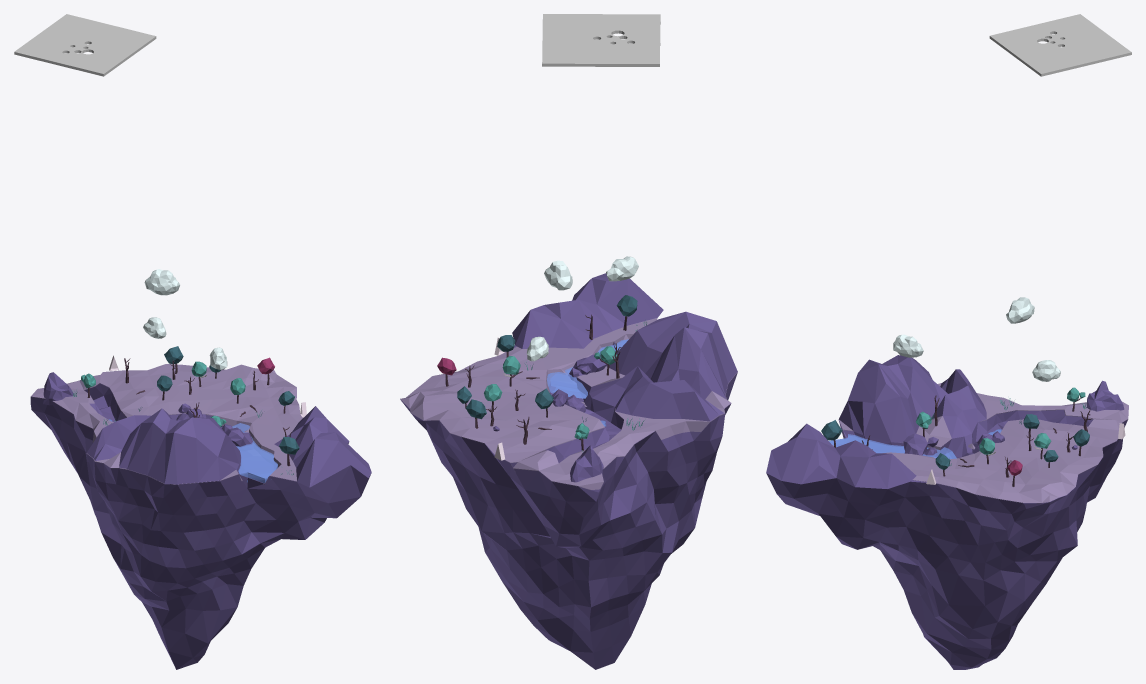
File: level-1-platform-1.dae
3 renders of one model, left to right at view 1: azimuth 30°, elevation 25°; view 2: azimuth 150°, elevation 25°; view 3: azimuth 270°, elevation 25°, orthographic. The views are drawn at different scales.
Visible parts, largest first — view 1: Plateforme, Plateforme_dessus, Cube, Eau_riviere, Eau_riviere_1, Cloud, Rocher_2; view 2: Plateforme, Plateforme_dessus, Cube, Rocher_2, Cloud, Cloud_3, Eau_riviere, hiding_item; view 3: Plateforme, Plateforme_dessus, Cube, Eau_riviere, Rocher_2, Cloud, Cloud_3.
Part boxes in pixels (x1,y1,x2,y2): Plateforme: (30,383,371,669); Plateforme_dessus: (30,364,302,484); Cube: (14,14,156,76); Eau_riviere: (232,423,277,482); Eau_riviere_1: (237,443,277,483); Cloud: (144,269,179,295); Rocher_2: (43,372,73,405); Plateforme: (400,273,737,669); Plateforme_dessus: (400,318,737,489); Cube: (542,14,660,66); Rocher_2: (570,445,603,482); Cloud: (544,260,572,290); Cloud_3: (606,256,638,281); Eau_riviere: (547,339,628,397); hiding_item: (547,379,587,398); Plateforme: (766,355,1127,669); Plateforme_dessus: (832,383,1128,503); Cube: (989,14,1131,76); Eau_riviere: (829,434,955,459); Rocher_2: (1086,380,1124,411); Cloud: (1006,297,1034,323); Cloud_3: (893,334,923,357).
Bounding box in the file's own units: 1693 × 3955 × 2182.
